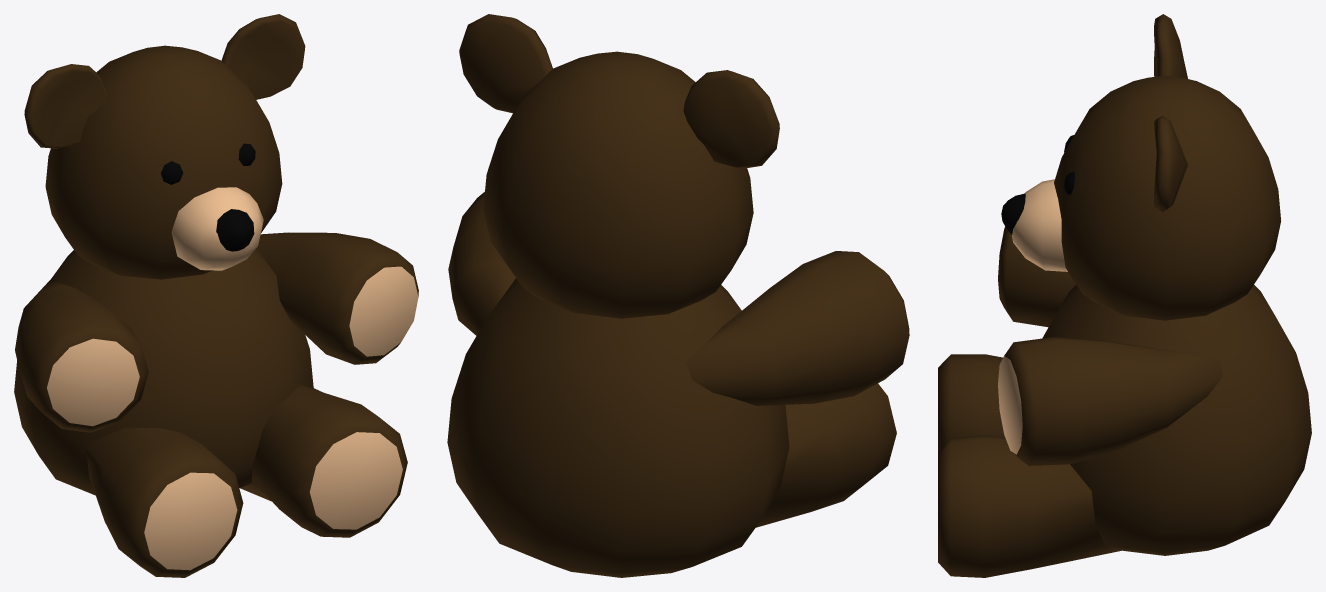
File: teddy_1.fbx
3 views of the same model, side by side, from view 1: azimuth 30°, elevation 25°; view 2: azimuth 150°, elevation 25°; view 3: azimuth 270°, elevation 25° (orthographic). The views are drawn at different scales.
Parts seen in each view (by area): view 1: teddy_1; view 2: teddy_1; view 3: teddy_1.
Boxes of the visible parts, bbox=[...] form: teddy_1: bbox=[14, 14, 418, 577]; teddy_1: bbox=[447, 14, 909, 577]; teddy_1: bbox=[938, 14, 1311, 577].
Size of the model in its own units: 46.05 by 50.61 by 37.26.
1 material, 1 textured.
